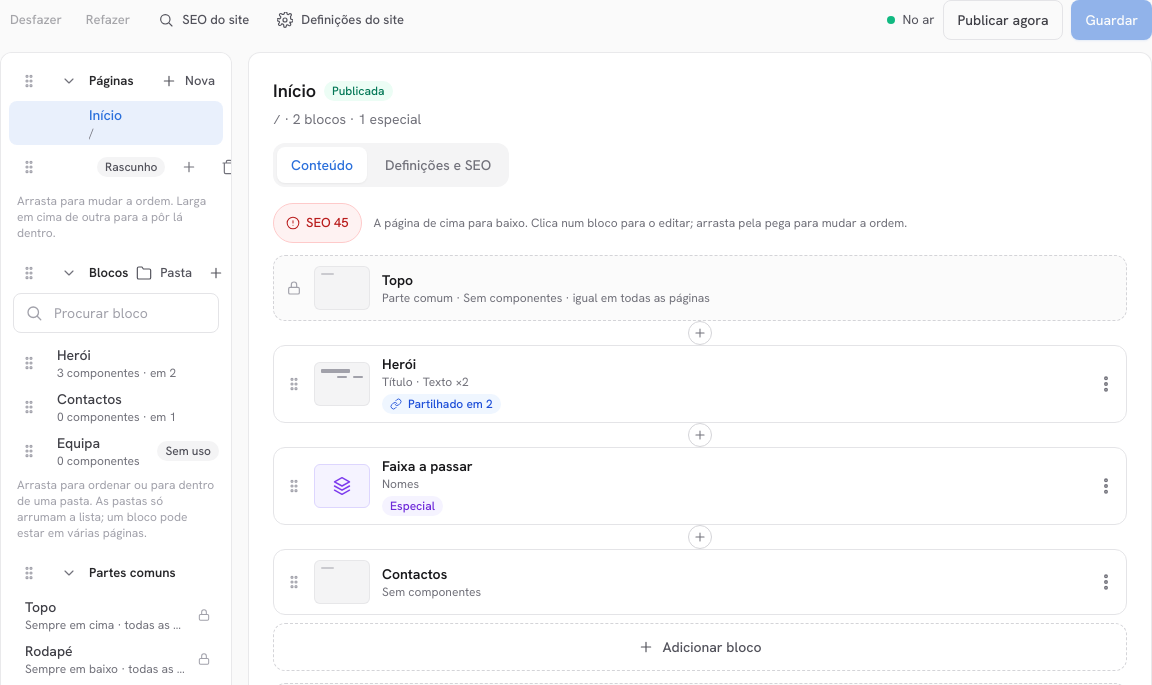
Test: Paginas · editor de bloco (F14) › Topo: a paleta só mostra os componentes permitidos
This screenshot has width=1152, height=685.
Click the button with aria-label "Editar topo do site".
click(342, 288)  # box [314,256,1126,320]
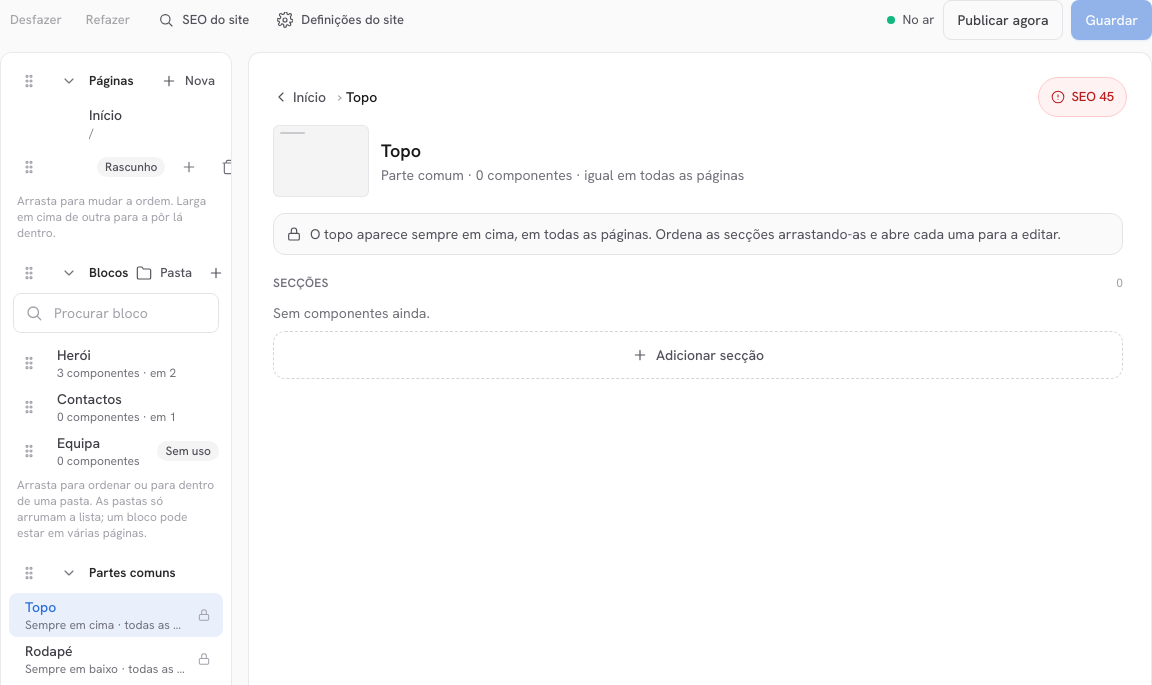
Expected: the heading "Topo" is shown, [381,139,421,162]
Click the button "Adicionar secção".
click(698, 355)  # box [273,331,1123,379]
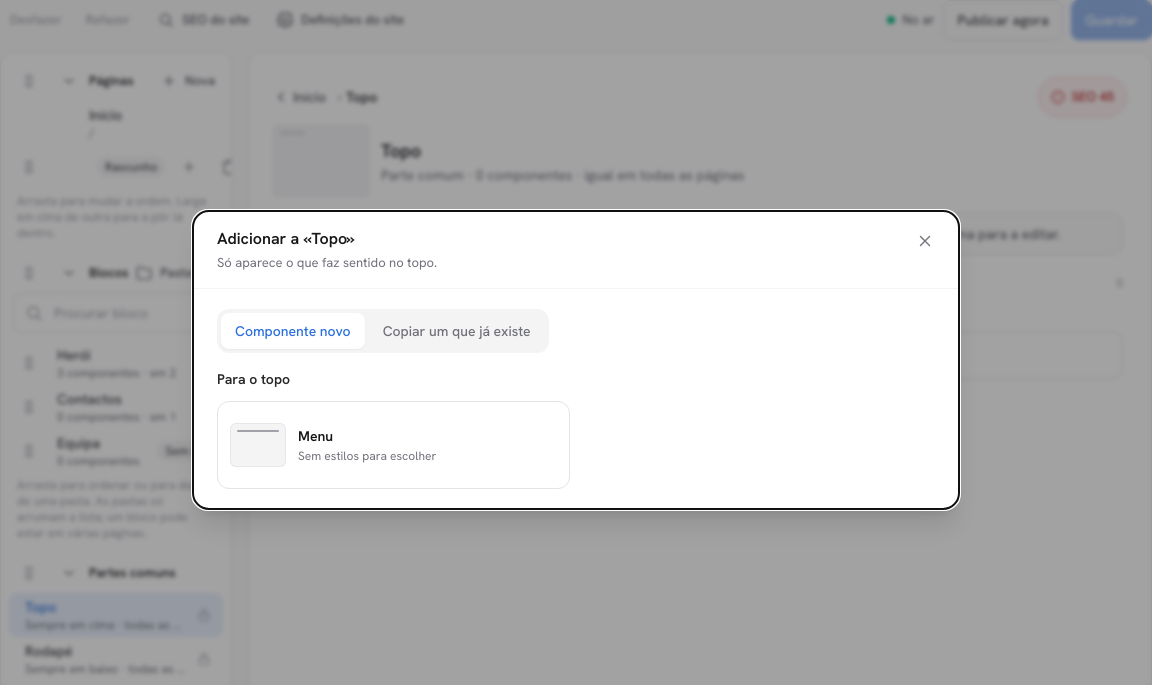
Expected: the button "Título" is not shown
Expected: the button "Menu Sem estilos para escolher" is shown, [217,401,570,489]
